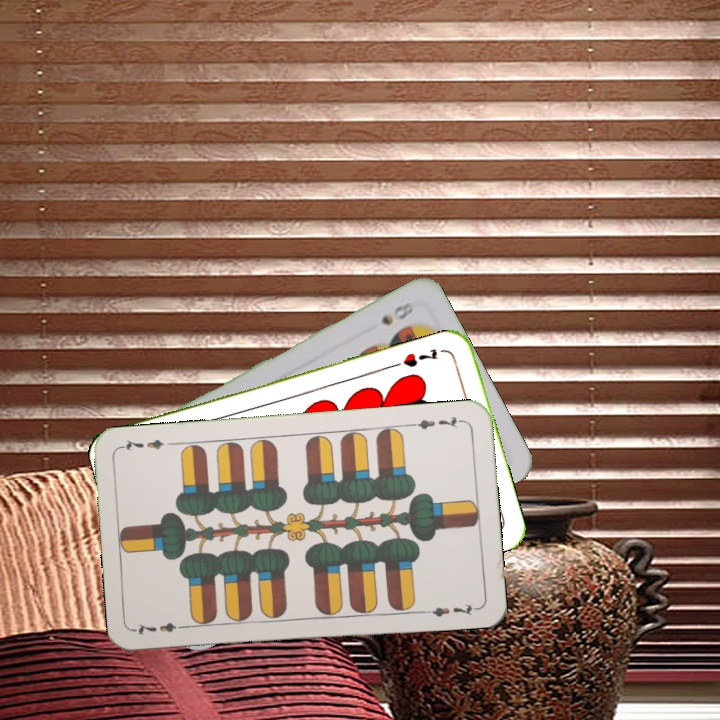E7: (407, 412, 466, 432), (132, 618, 191, 637)
H7: (399, 344, 440, 370)
S8: (376, 298, 416, 328)
